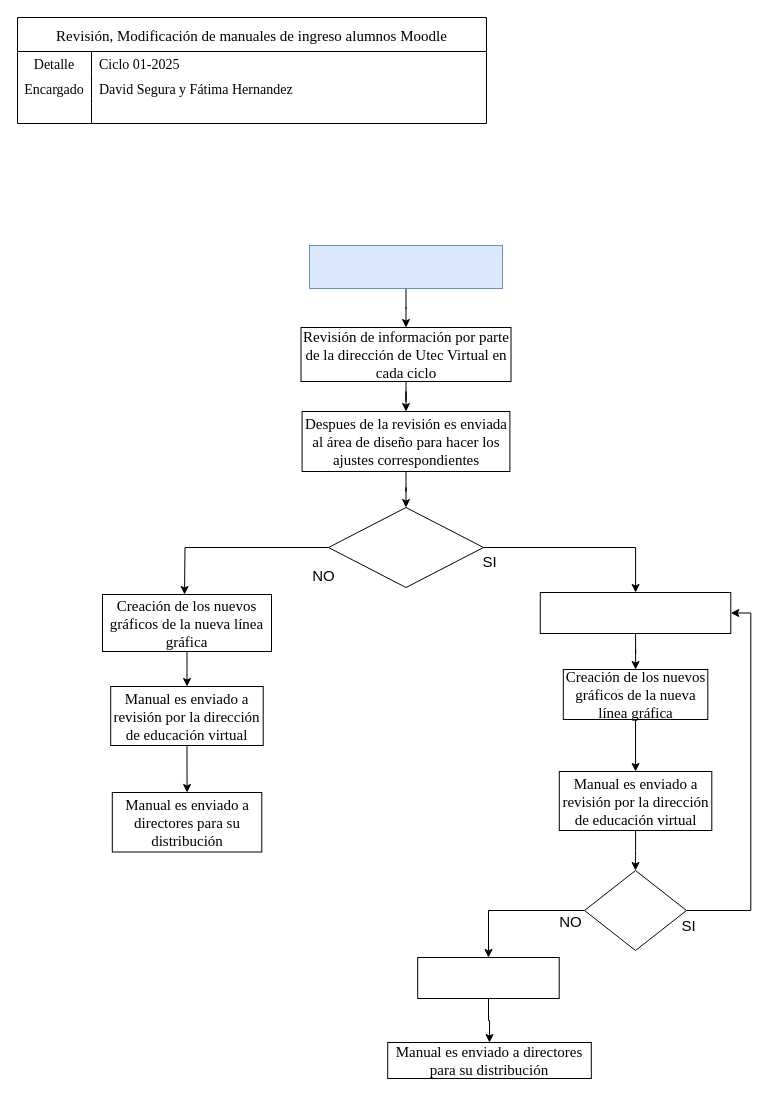
The diagram is 777 pixels wide and 1096 high, and some of its shapes have lost their labels. The shapes that lost their labels are listed below. From the top down, each one's centre as x and y in pixels, then its label:
At (x=405, y=266): "Revisión de manual de Moodle".
At (x=406, y=547): "¿información desactualizada?".
At (x=635, y=613): "Agregar o quitar información".
At (x=635, y=910): "¿Correción?".
At (x=488, y=977): "manual ya listo para su publicación".
